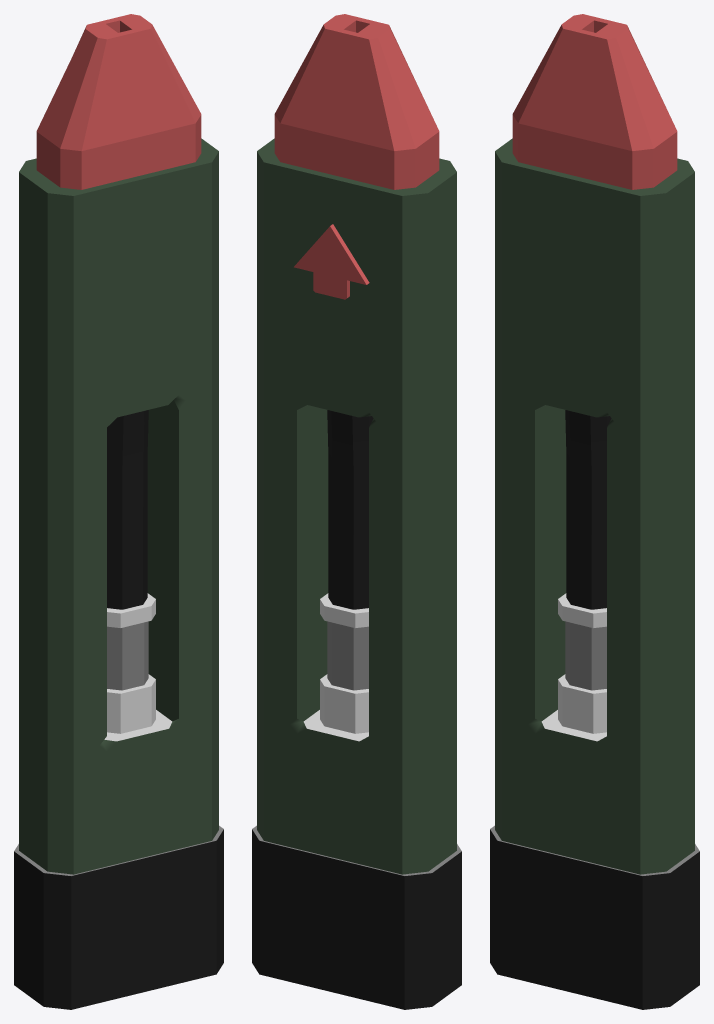
Rendered from StemMeds.fbx.
3 views of the same model, side by side, from view 1: azimuth 30°, elevation 25°; view 2: azimuth 150°, elevation 25°; view 3: azimuth 330°, elevation 25° (orthographic).
Parts seen in each view (by area): view 1: pCube1; view 2: pCube1, pPlane1; view 3: pCube1.
Boxes of the visible parts, left/top/right/bottom form: pCube1: left=14, top=14, right=223, bottom=1009; pCube1: left=252, top=14, right=461, bottom=1009; pPlane1: left=294, top=224, right=369, bottom=299; pCube1: left=490, top=14, right=699, bottom=1009.
Bounding box in the file's own units: 2.17 × 10.92 × 1.08.
